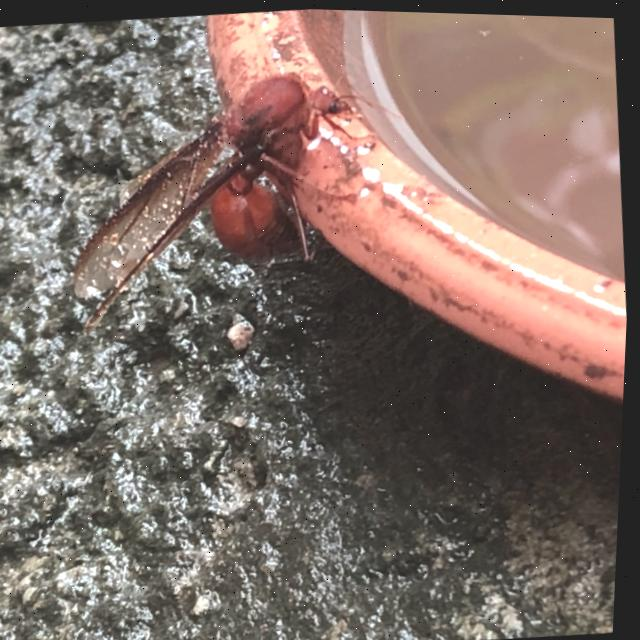Alive-Male-Alate: (55, 50, 427, 344)
